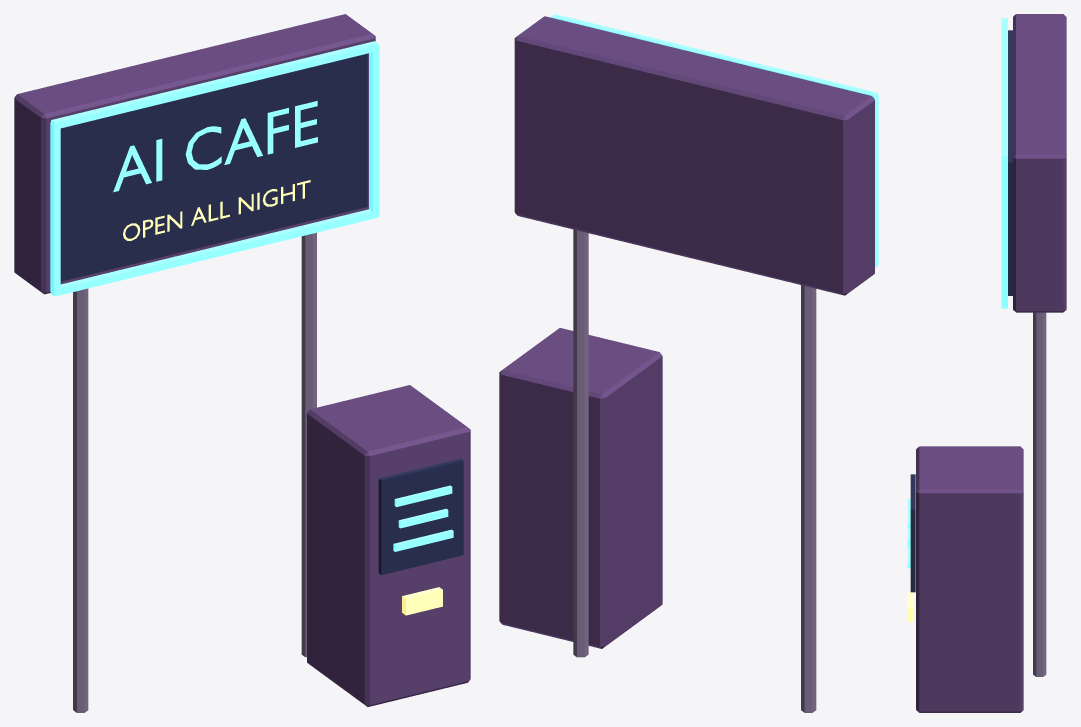
The model's file is sfv2_neon_street_cluster.glb.
3 renders of one model, left to right at view 1: azimuth 30°, elevation 25°; view 2: azimuth 150°, elevation 25°; view 3: azimuth 270°, elevation 25°, orthographic. The views are drawn at different scales.
Parts seen in each view (by area): view 1: sfv2_neon_street_cluster__sf_violet_stucco, sfv2_neon_street_cluster__sf_midnight_blue, sfv2_neon_street_cluster__sf_emissive_cyan, sfv2_neon_street_cluster__sf_lavender_trim, sfv2_neon_street_cluster__sf_emissive_window; view 2: sfv2_neon_street_cluster__sf_violet_stucco, sfv2_neon_street_cluster__sf_lavender_trim, sfv2_neon_street_cluster__sf_emissive_cyan; view 3: sfv2_neon_street_cluster__sf_violet_stucco, sfv2_neon_street_cluster__sf_lavender_trim, sfv2_neon_street_cluster__sf_emissive_cyan, sfv2_neon_street_cluster__sf_midnight_blue.
Boxes of the visible parts, x1,y1,x2,y2 form: sfv2_neon_street_cluster__sf_violet_stucco: [14, 14, 470, 706]; sfv2_neon_street_cluster__sf_midnight_blue: [60, 53, 463, 574]; sfv2_neon_street_cluster__sf_emissive_cyan: [50, 41, 453, 551]; sfv2_neon_street_cluster__sf_lavender_trim: [73, 232, 316, 712]; sfv2_neon_street_cluster__sf_emissive_window: [123, 180, 442, 615]; sfv2_neon_street_cluster__sf_violet_stucco: [499, 16, 874, 648]; sfv2_neon_street_cluster__sf_lavender_trim: [573, 229, 816, 712]; sfv2_neon_street_cluster__sf_emissive_cyan: [551, 14, 878, 267]; sfv2_neon_street_cluster__sf_violet_stucco: [916, 14, 1066, 712]; sfv2_neon_street_cluster__sf_lavender_trim: [1033, 312, 1046, 676]; sfv2_neon_street_cluster__sf_emissive_cyan: [907, 18, 1007, 568]; sfv2_neon_street_cluster__sf_midnight_blue: [910, 30, 1012, 592].
Bounding box in the file's own units: 19.55 × 30.85 × 8.21.
